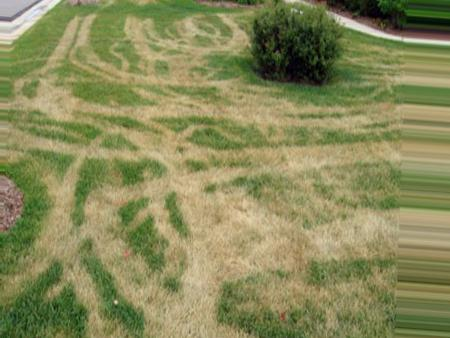patch: (259, 219, 388, 268), (181, 179, 246, 276), (51, 216, 127, 271), (130, 25, 190, 89), (217, 90, 286, 128), (246, 147, 351, 169), (137, 117, 179, 168), (35, 74, 72, 119)
